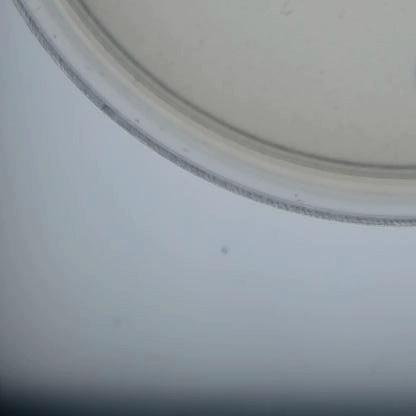worm: (273, 0, 299, 30)
